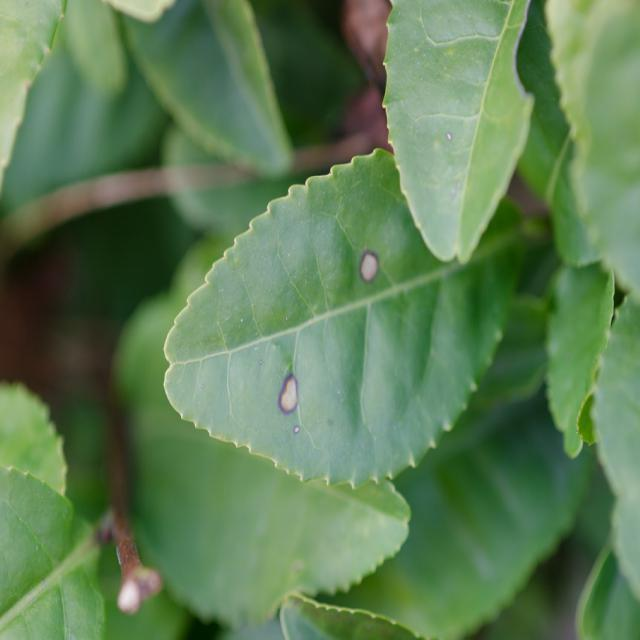Tea red scab: (336, 225, 383, 306), (270, 355, 309, 438)
